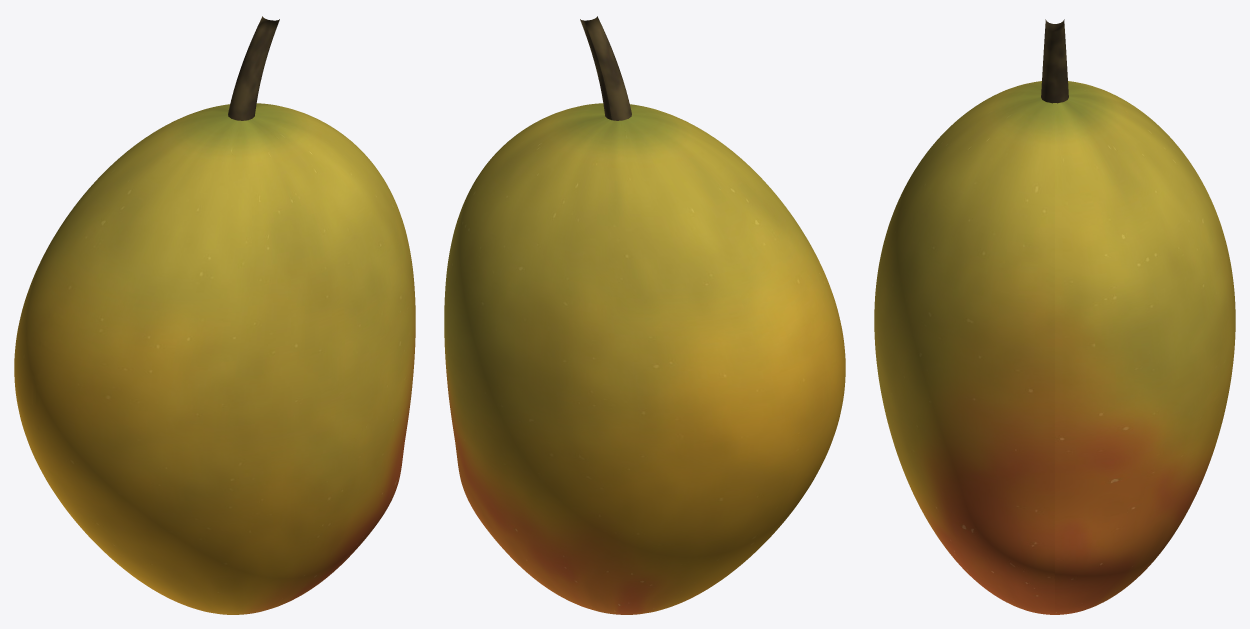
Rendered from mangue.glb.
The picture shows the model from 3 angles, left to right: view 1: azimuth 30°, elevation 25°; view 2: azimuth 150°, elevation 25°; view 3: azimuth 270°, elevation 25°; orthographic projection. The views are drawn at different scales.
Visible parts, largest first — view 1: entier_peau, moitie_A_peau, moitie_B_peau, entier_extra0; view 2: entier_peau, moitie_B_peau, moitie_A_peau, entier_extra0; view 3: entier_peau, moitie_A_peau, moitie_B_peau, entier_extra0.
Boxes of the visible parts, x1,y1,x2,y2 form: entier_peau: (14, 103, 415, 614); moitie_A_peau: (35, 112, 415, 614); moitie_B_peau: (14, 103, 327, 561); entier_extra0: (228, 16, 279, 120); entier_peau: (444, 103, 845, 614); moitie_B_peau: (444, 112, 823, 614); moitie_A_peau: (532, 103, 845, 559); entier_extra0: (580, 16, 631, 120); entier_peau: (874, 81, 1235, 614); moitie_A_peau: (874, 81, 1053, 613); moitie_B_peau: (1056, 81, 1235, 613); entier_extra0: (1041, 19, 1068, 103).
Bounding box in the file's own units: 0.0843 × 0.13 × 0.0707.
3 materials, 3 textured.
